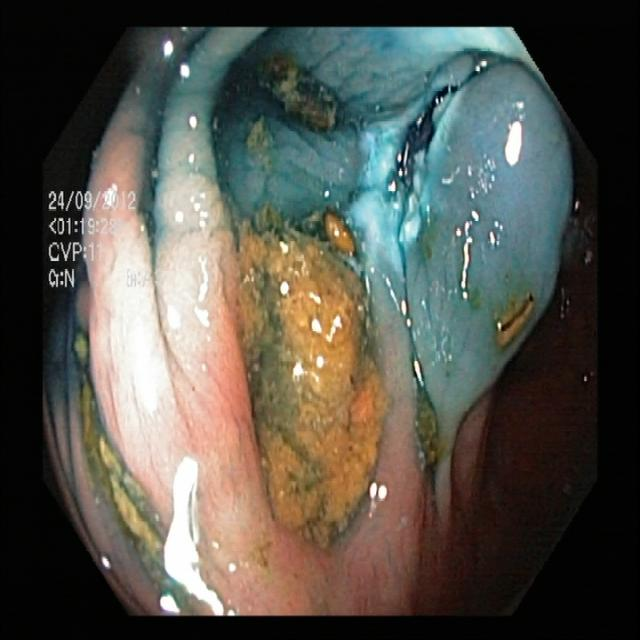dyed-resection-margins: (216, 196, 404, 550), (59, 329, 189, 599), (243, 44, 357, 132), (473, 276, 546, 370), (406, 386, 454, 488)
